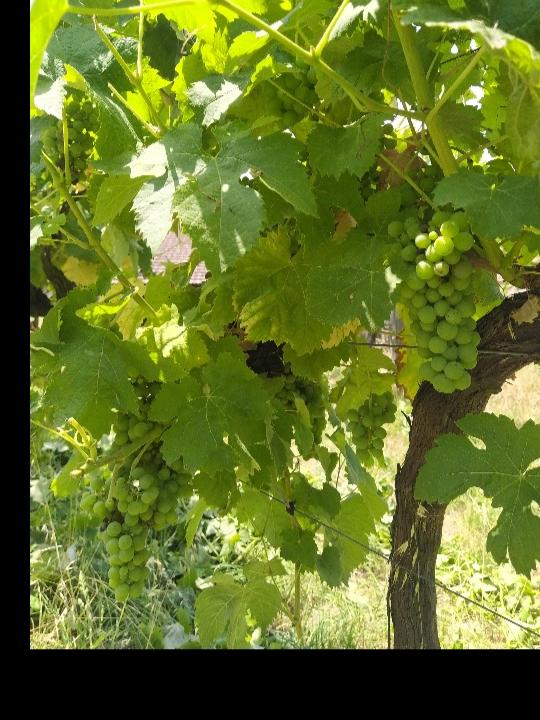grape: (385, 210, 483, 396), (78, 465, 161, 603)
